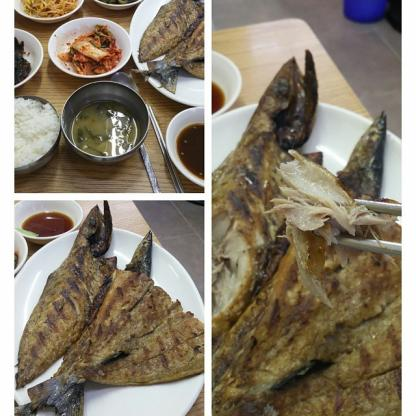Peixe: (229, 45, 402, 409), (17, 212, 207, 395)
